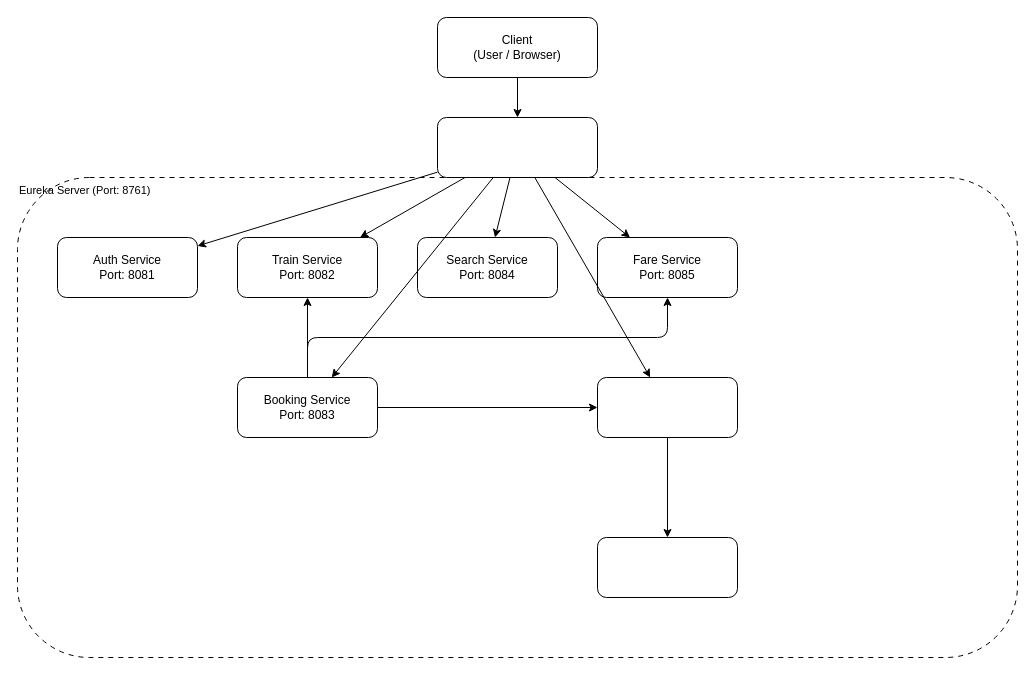
Some shapes in this 1035 by 675 pixel diagram are drawn without their labels. Each missing label, with the centre of its shape:
"API Gateway Port: 8080" belongs at point (517, 147).
"Notification Service Port: 8087" belongs at point (667, 567).
"Payment Service Port: 8086" belongs at point (667, 407).
